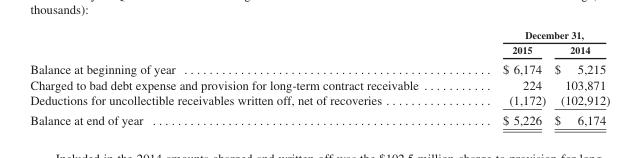table: (29, 28, 609, 126)
table column: (29, 28, 459, 126), (459, 28, 549, 126), (549, 28, 609, 126)
table column header: (29, 28, 609, 58)
table row: (29, 58, 609, 76), (29, 91, 609, 109), (29, 41, 609, 58), (29, 109, 609, 126), (29, 76, 609, 91), (29, 28, 609, 41)
table spanning cell: (459, 28, 609, 41)
